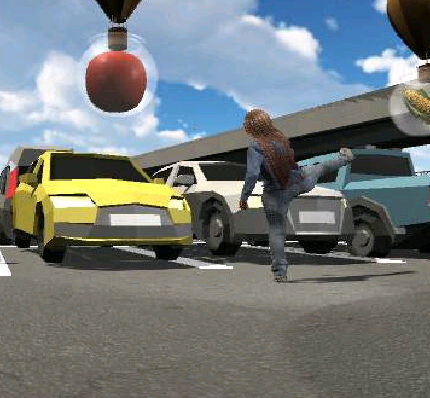turn_right: (239, 110, 356, 284)
